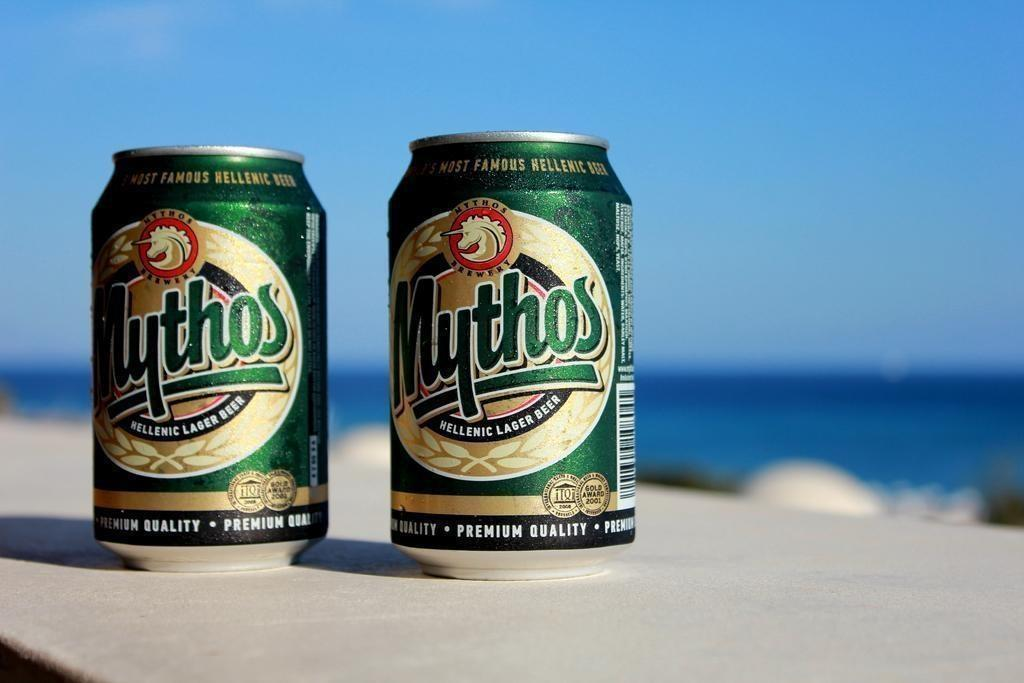tin can: (391, 126, 641, 584), (79, 141, 336, 572)
